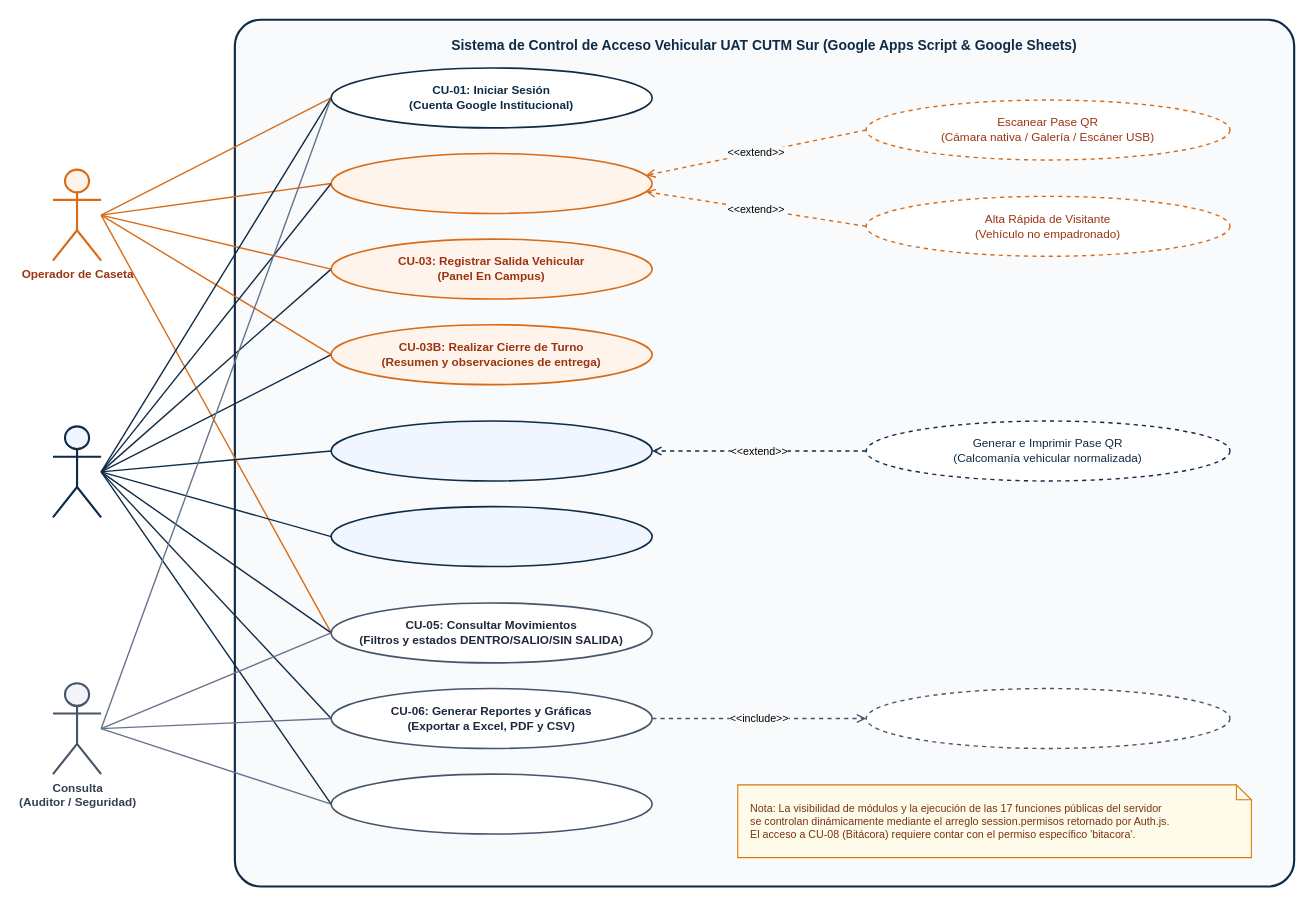
Some shapes in this 1313 by 905 pixel diagram are drawn without their labels. Here are the shapes that lost their labels. From the top down, the centre of each, then its label:
At pixel 491 183: "CU-02: Registrar Entrada Vehicular (Con selección de Caseta Activa)".
At pixel 491 450: "CU-04: Gestionar Catálogos Maestros (Vehículos, Personas y Casetas)".
At pixel 76 471: "Administrador".
At pixel 491 536: "CU-07: Gestionar Usuarios y Roles (Alta, permisos y caseta asignada)".
At pixel 1047 718: "Monitorear Alertas de Estancia ≥12 h y Registros SIN SALIDA".
At pixel 491 803: "CU-08: Consultar Bitácora de Actividades (Auditoría en Solo Lectura)".
